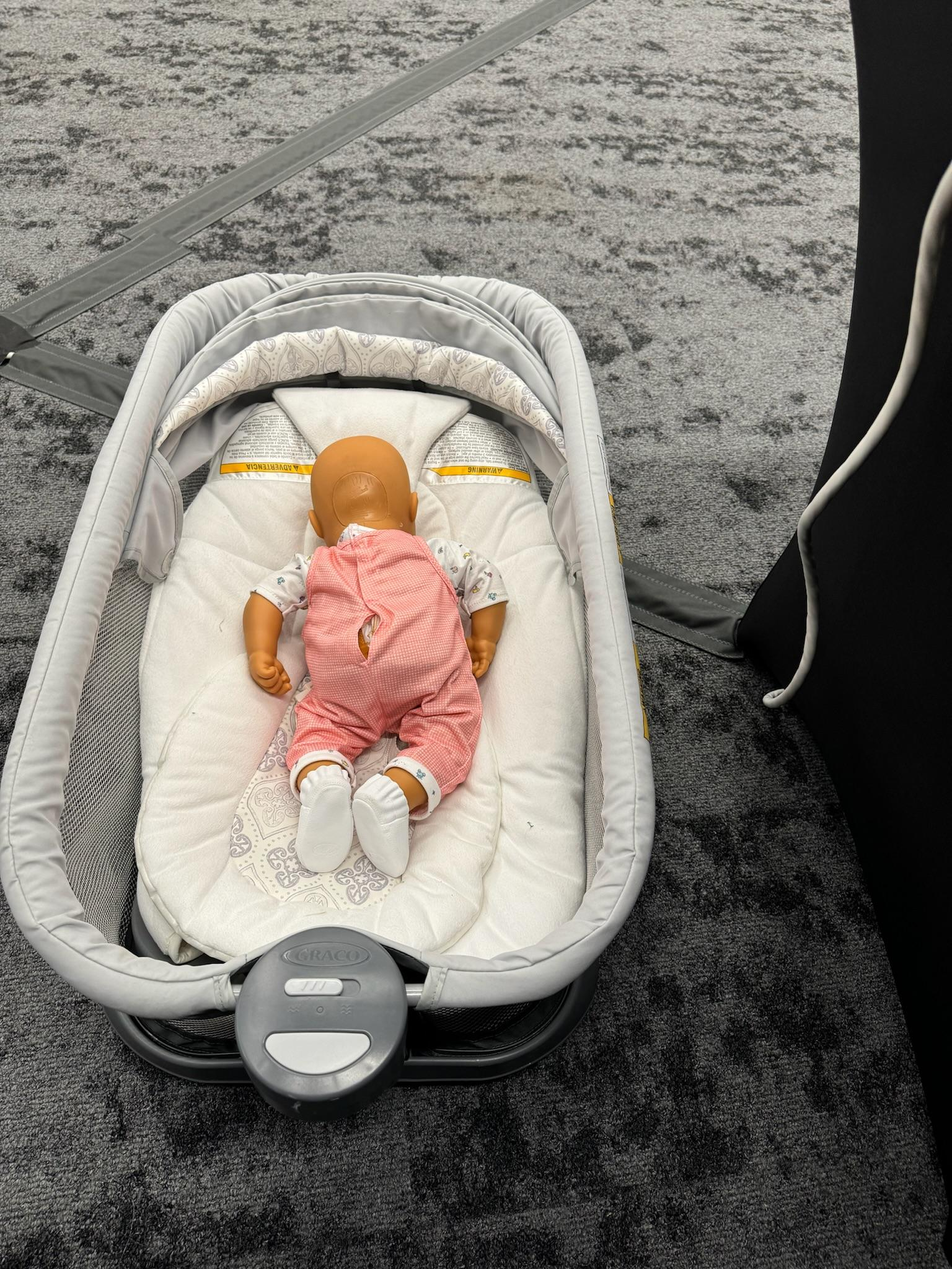baby: (239, 429, 512, 880)
